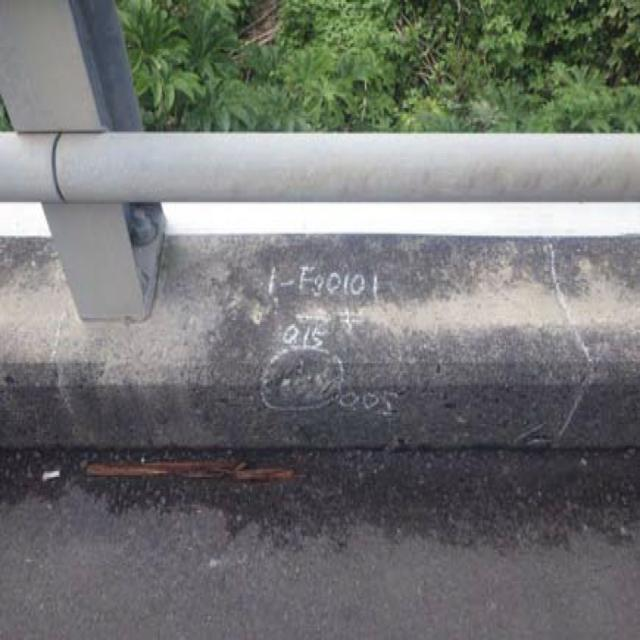spalling: (253, 338, 350, 408)
